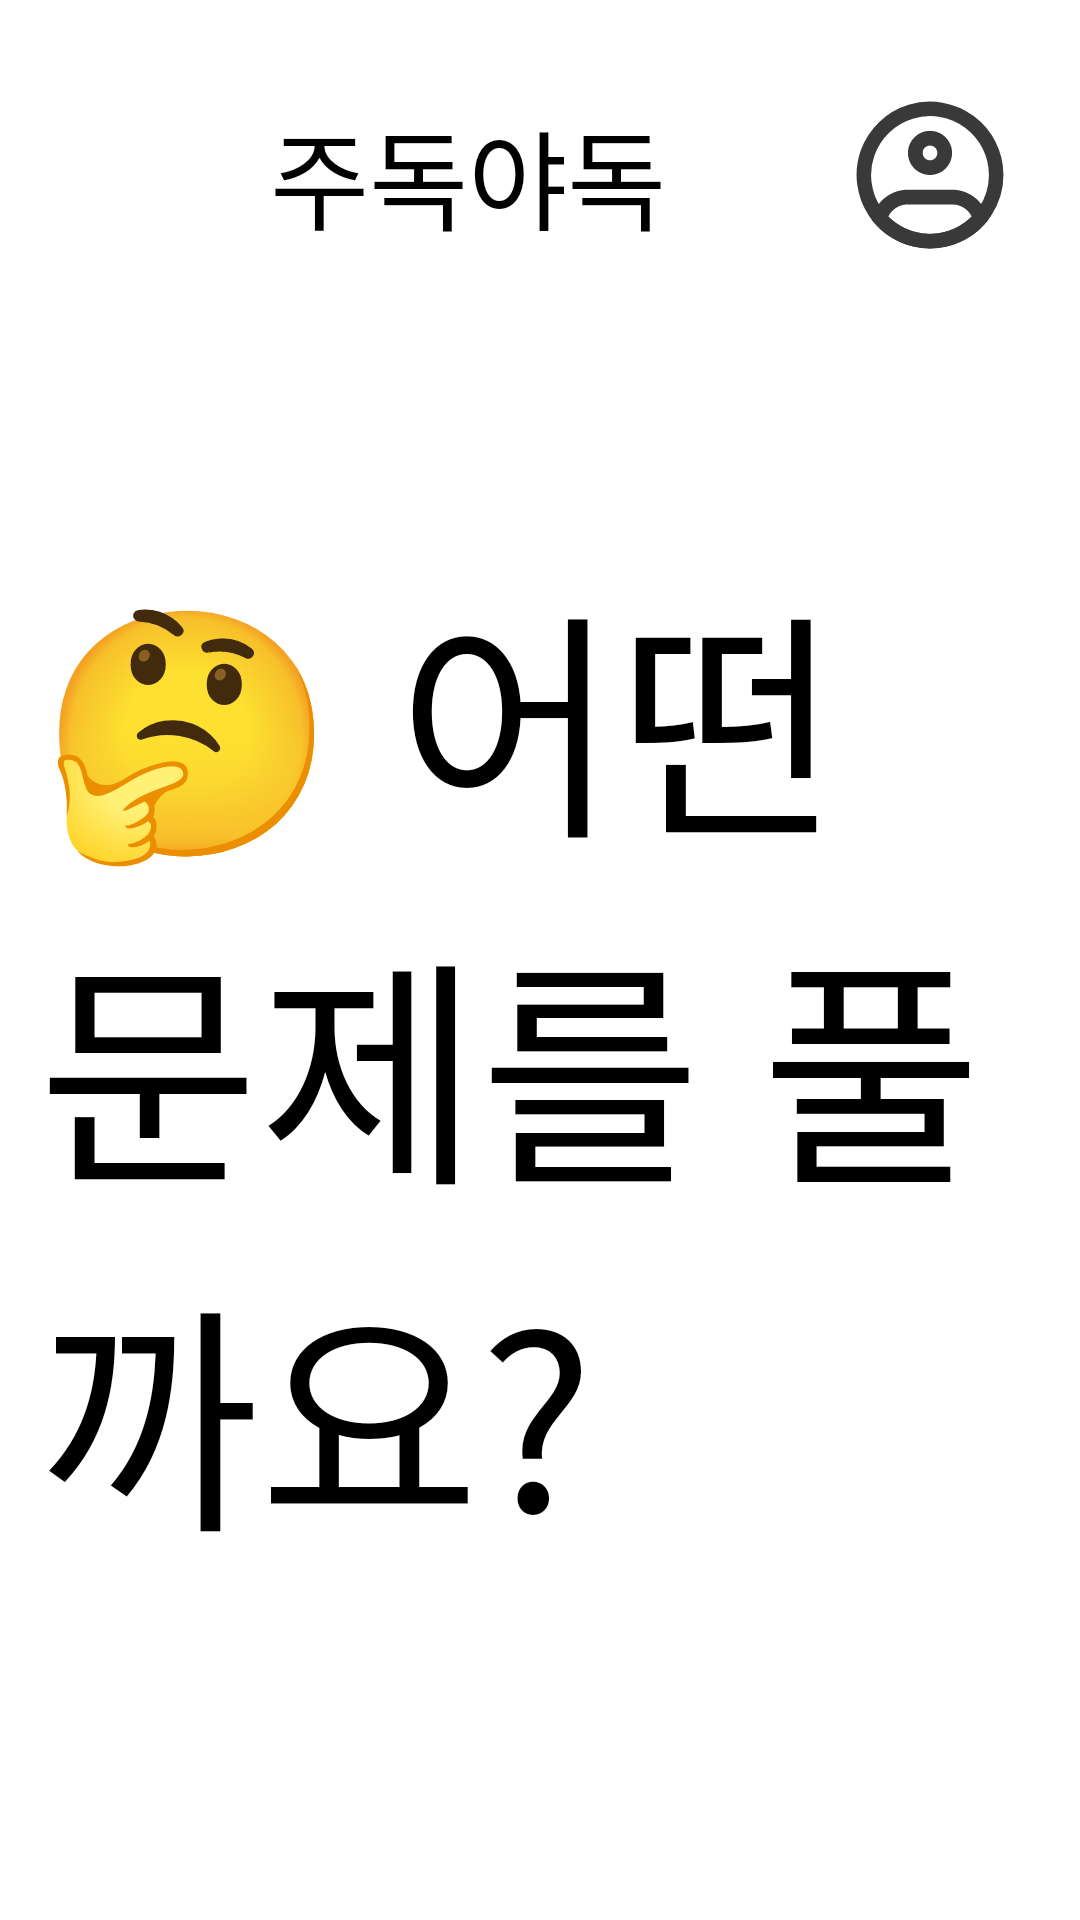

Screen size 1080*1920. Icon name, then its box in pixels as bbox=[x1, y1, x2, y2]:
profile: bbox=[856, 101, 1004, 249]
